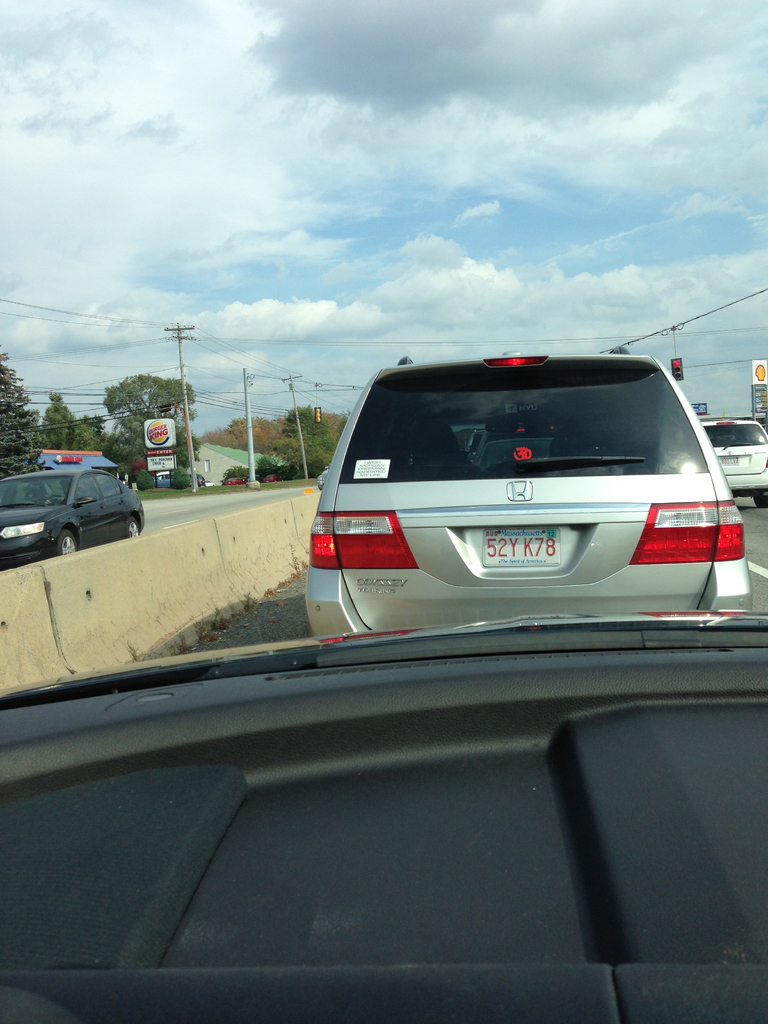license plate: (486, 530, 561, 568)
